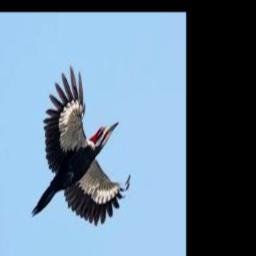Woodpecker: (32, 65, 131, 225)
